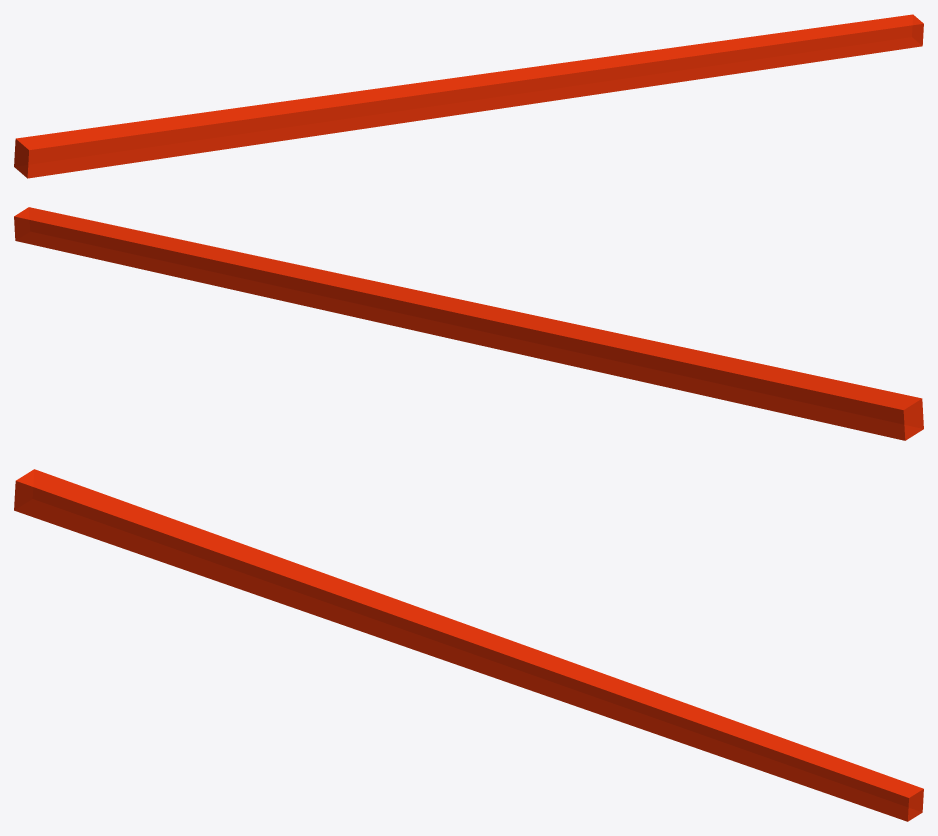
File: Event_421115418_EErechit_15.fbx
The picture shows the model from 3 angles, top to bottom: view 1: azimuth 30°, elevation 25°; view 2: azimuth 150°, elevation 25°; view 3: azimuth 330°, elevation 25°; orthographic projection. The views are drawn at different scales.
Parts seen in each view (by area): view 1: Model; view 2: Model; view 3: Model.
Boxes of the visible parts, bbox=[...] form: Model: bbox=[14, 14, 923, 178]; Model: bbox=[14, 207, 923, 440]; Model: bbox=[14, 469, 923, 821].
Size of the model in its own units: 2.93 by 0.2617 by 0.2937.
